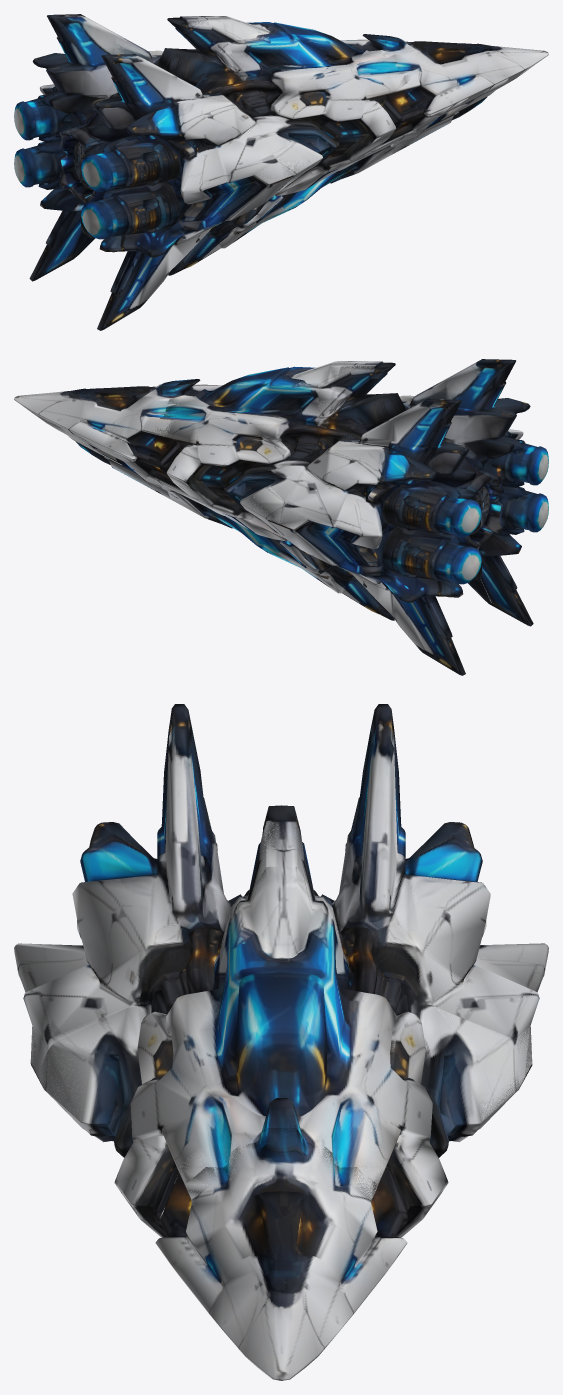
The model's file is detailed-player.glb.
The picture shows the model from 3 angles, top to bottom: view 1: azimuth 30°, elevation 25°; view 2: azimuth 150°, elevation 25°; view 3: azimuth 270°, elevation 25°; orthographic projection. The views are drawn at different scales.
Parts seen in each view (by area): view 1: debris_0_1, debris_0_0, debris_1_1, debris_2_1, hull, debris_1_0, debris_2_0; view 2: debris_0_1, debris_0_0, debris_1_1, debris_2_1, hull, debris_1_0, debris_2_0; view 3: debris_1_1, debris_0_1, debris_2_1, hull, debris_1_0.
Boxes of the visible parts, x1,y1,x2,y2 form: debris_0_1: (14, 14, 283, 204); debris_0_0: (14, 142, 281, 330); debris_1_1: (215, 16, 414, 180); debris_2_1: (380, 35, 548, 116); hull: (40, 16, 529, 248); debris_1_0: (226, 117, 413, 247); debris_2_0: (391, 59, 542, 154); debris_0_1: (279, 359, 548, 549); debris_0_0: (281, 487, 548, 675); debris_1_1: (149, 361, 347, 525); debris_2_1: (14, 380, 180, 460); hull: (25, 361, 523, 592); debris_1_0: (149, 462, 338, 593); debris_2_0: (23, 406, 169, 496); debris_1_1: (38, 866, 524, 1230); debris_0_1: (14, 704, 548, 1077); debris_2_1: (155, 1128, 407, 1380); hull: (31, 821, 532, 1376); debris_1_0: (53, 1095, 512, 1237).
Size of the model in its own units: 1 by 0.5154 by 0.5017.
2 materials, 1 textured.
